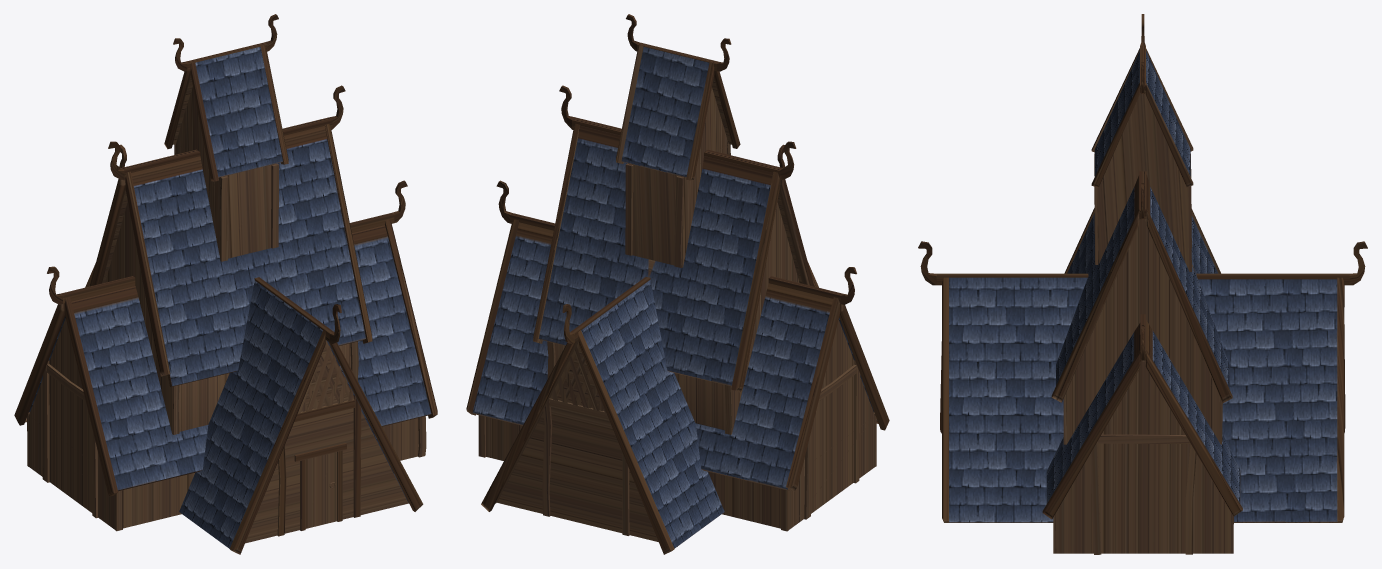
File: Viking townhall.fbx
3 renders of one model, left to right at view 1: azimuth 30°, elevation 25°; view 2: azimuth 150°, elevation 25°; view 3: azimuth 270°, elevation 25°, orthographic.
Visible parts, largest first — view 1: Viking_Townhall; view 2: Viking_Townhall; view 3: Viking_Townhall.
Part boxes in pixels (x1,y1,x2,y2): Viking_Townhall: (14, 14, 437, 554); Viking_Townhall: (466, 14, 889, 554); Viking_Townhall: (918, 14, 1367, 554).
Size of the model in its own units: 11.89 by 13.73 by 12.74.
